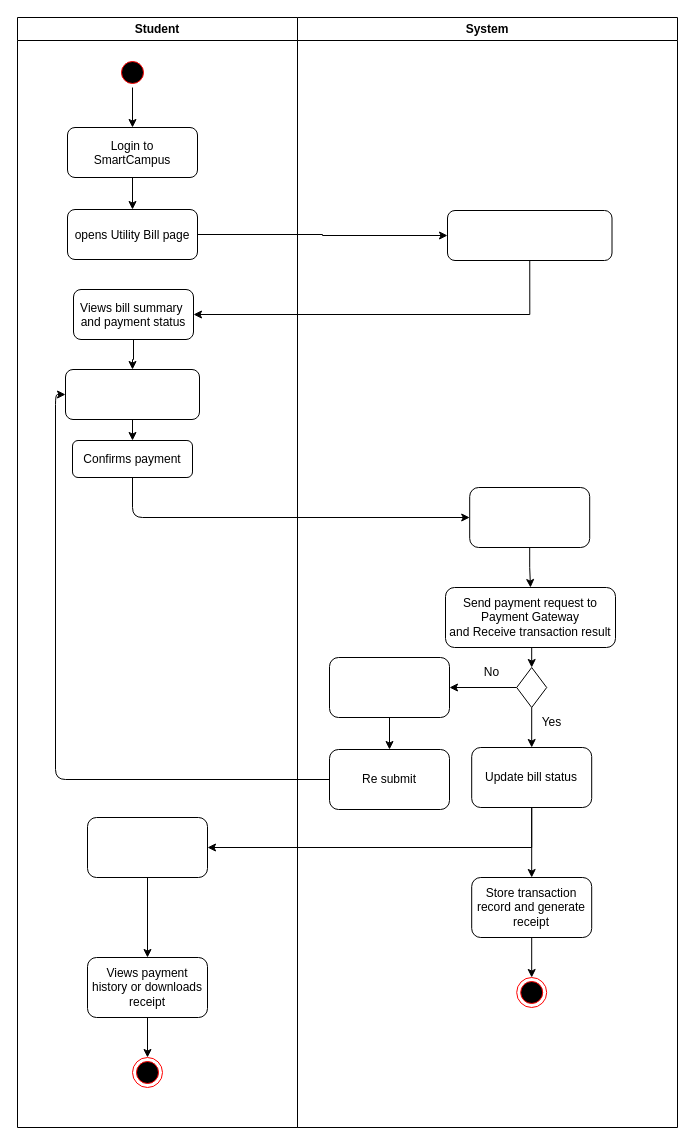
This 695x1145 diagram has some shape labels left out. The shapes that lost their labels are listed below. From the top down, each one's box as (x1, y1, x2, y2) in pixels, then its label:
(446, 210, 612, 260): Display bills with status and amount
(64, 368, 200, 420): Selects unpaid bill and clicks Pay Now
(469, 486, 590, 548): Validate payment details
(328, 656, 450, 718): Receives failure notice
(86, 816, 208, 878): Receives confirmation notice
